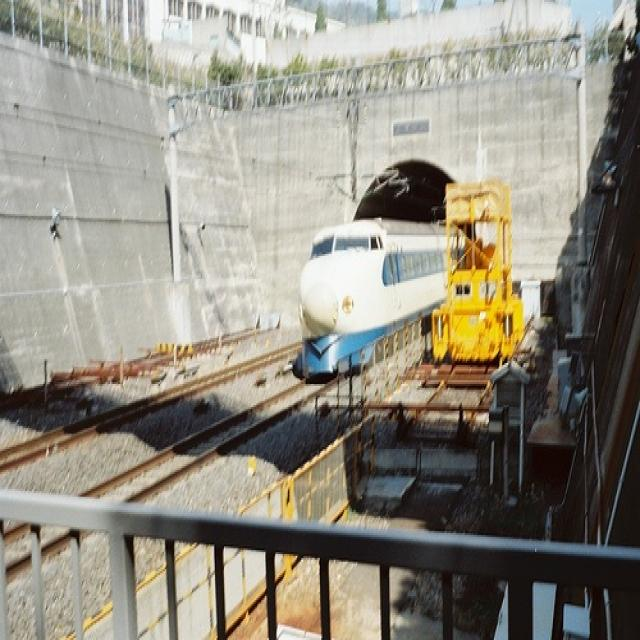train: (294, 214, 475, 373)
